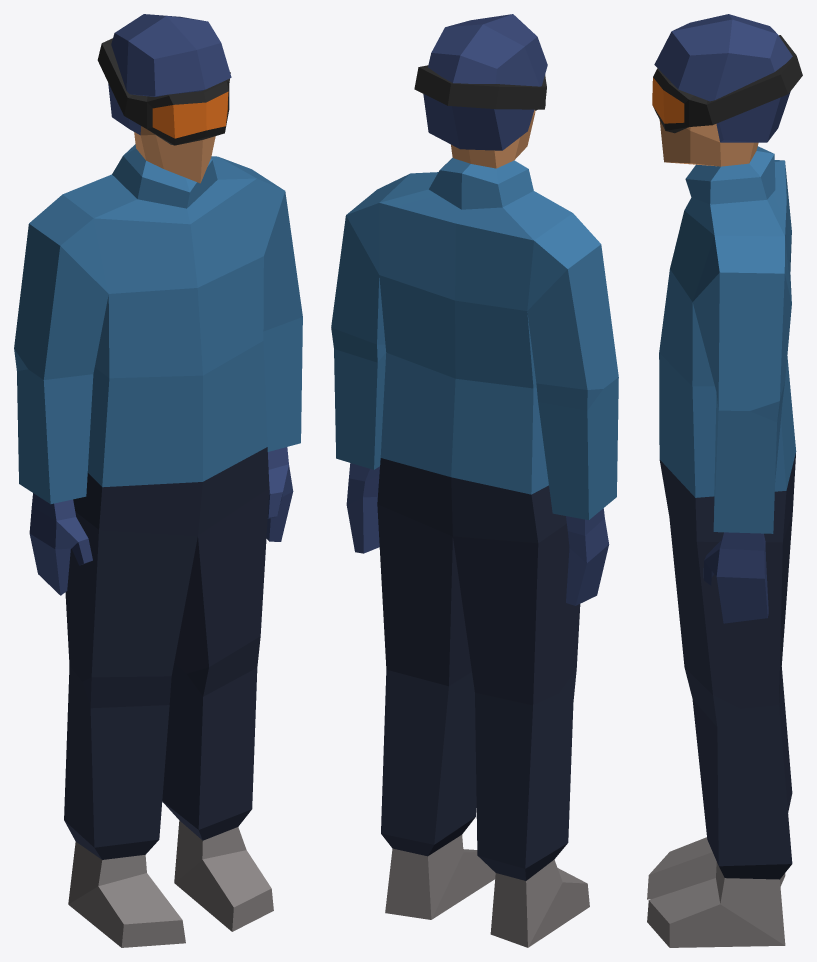
The model's file is man-ski.glb.
The picture shows the model from 3 angles, left to right: view 1: azimuth 30°, elevation 25°; view 2: azimuth 150°, elevation 25°; view 3: azimuth 270°, elevation 25°; orthographic projection.
Parts seen in each view (by area): view 1: man-ski; view 2: man-ski; view 3: man-ski.
Boxes of the visible parts, <box> form: man-ski: <box>14,14,302,947</box>; man-ski: <box>331,14,618,947</box>; man-ski: <box>647,14,802,947</box>.
Size of the model in its own units: 0.5631 by 1.85 by 0.2931.
1 material, 1 textured.
